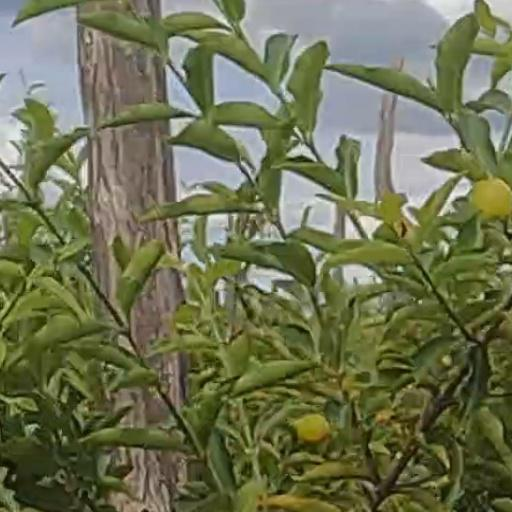acerola_verde: (472, 179, 508, 216), (298, 414, 328, 442)
